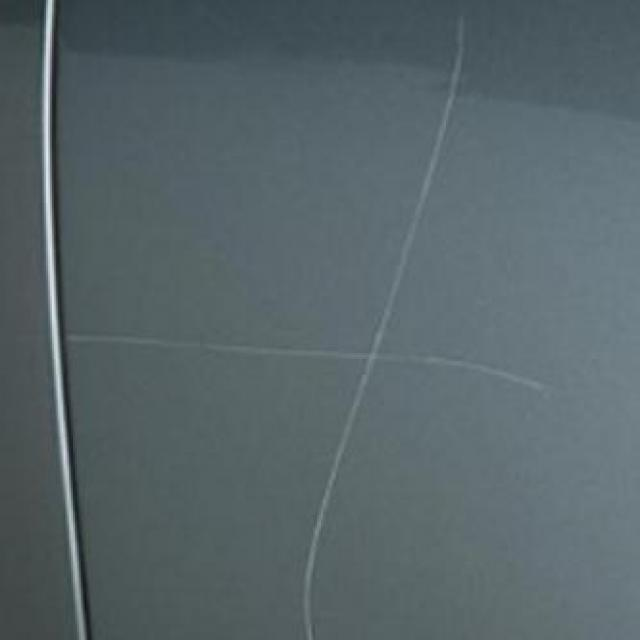scratch: (289, 17, 479, 640), (53, 316, 574, 410)
